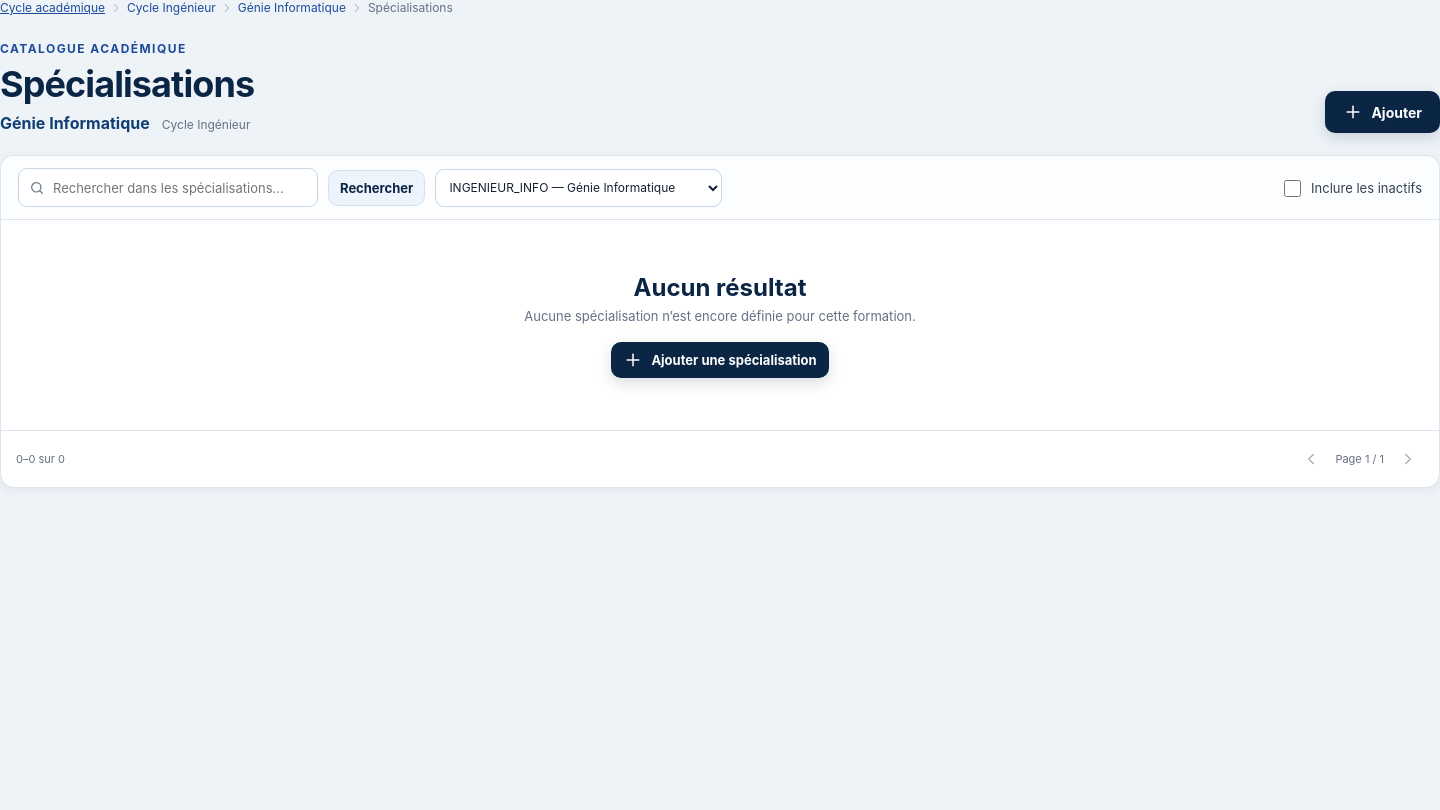
CrudPage hierarchical navigation › shows a contextual empty state and preselects formation when adding
expect the text "Aucune spécialisation n’est encore définie pour cette formation." is shown: met, box [524, 308, 916, 324]
Click the button "Ajouter" at {"x": 1383, "y": 112}, box [1325, 91, 1439, 133]
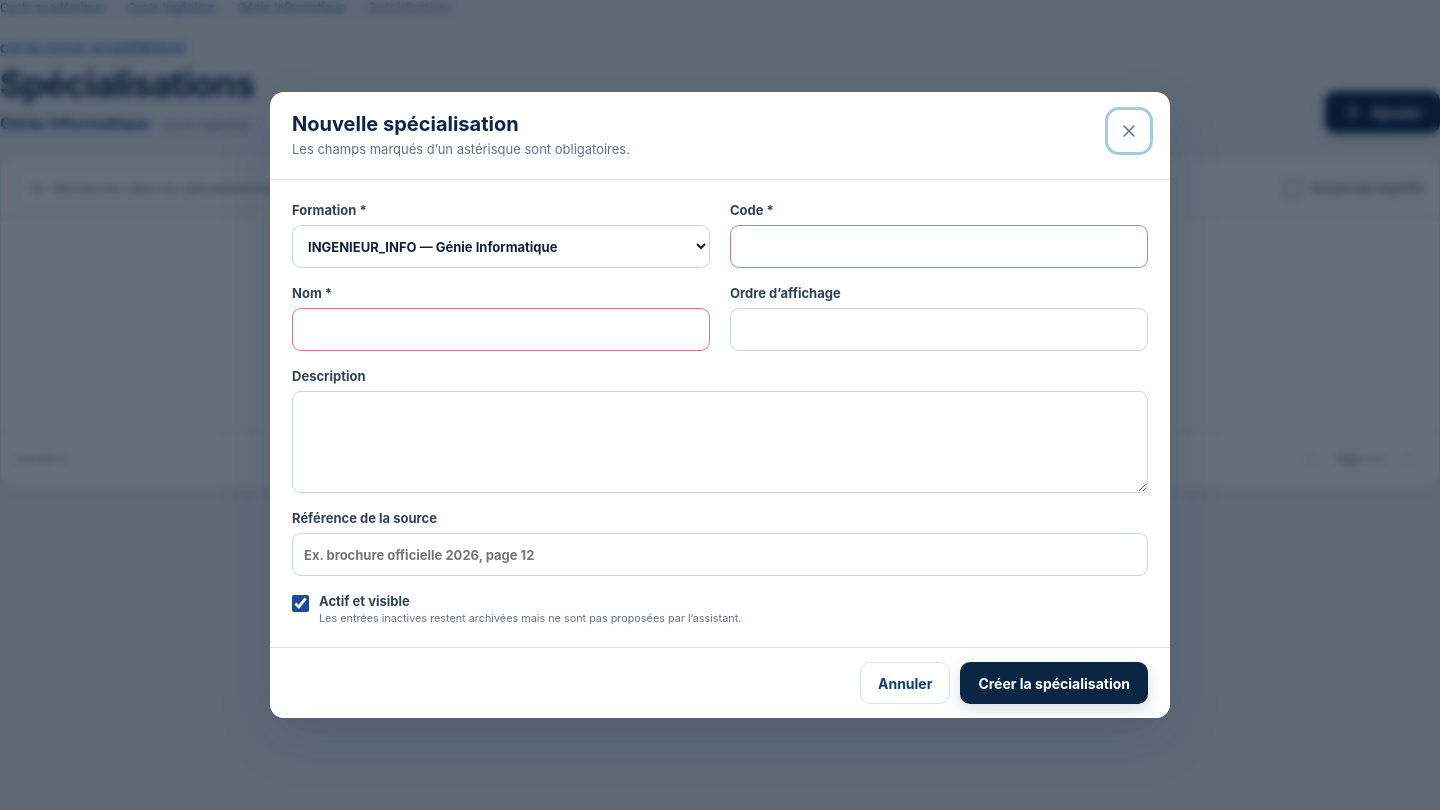
expect the dropdown labelled "Formation *" shows "INGENIEUR_INFO — Génie Informatique": met, box [292, 225, 710, 268]
Click the button named "Fermer" at {"x": 1129, "y": 131}, box [1110, 112, 1148, 150]
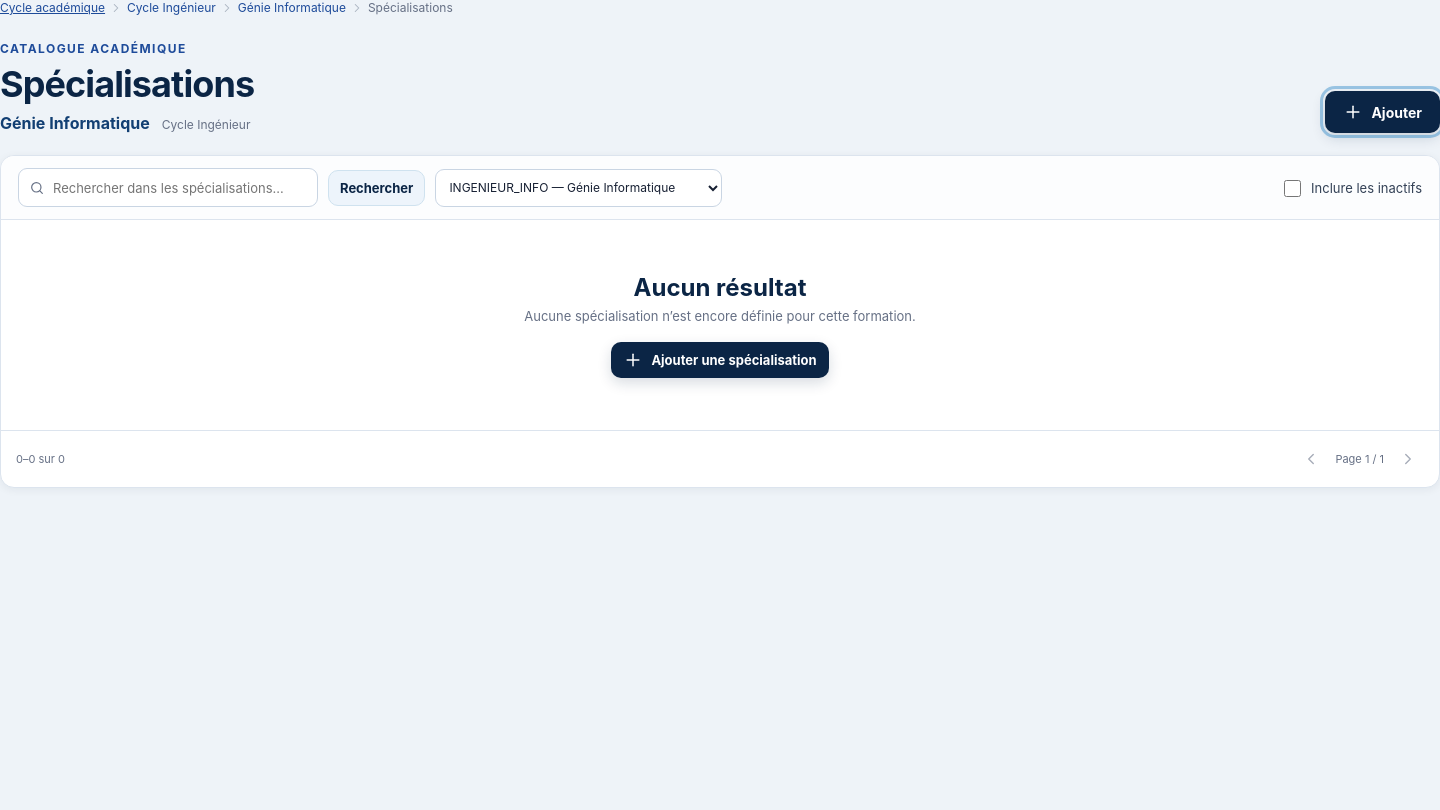
Click the button "Ajouter une spécialisation" at {"x": 720, "y": 360}, box [611, 342, 829, 378]
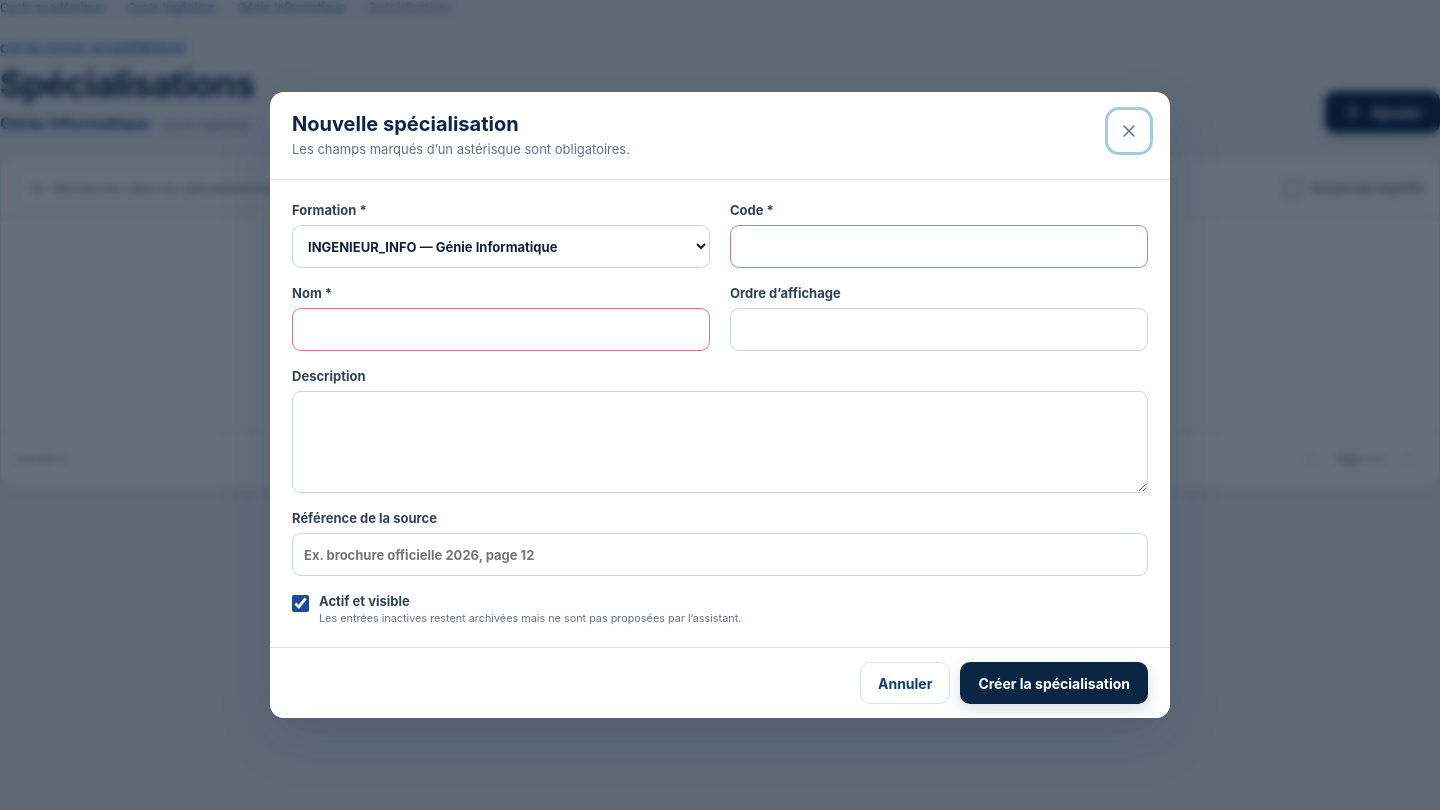
expect the dropdown labelled "Formation *" shows "INGENIEUR_INFO — Génie Informatique": met, box [292, 225, 710, 268]
